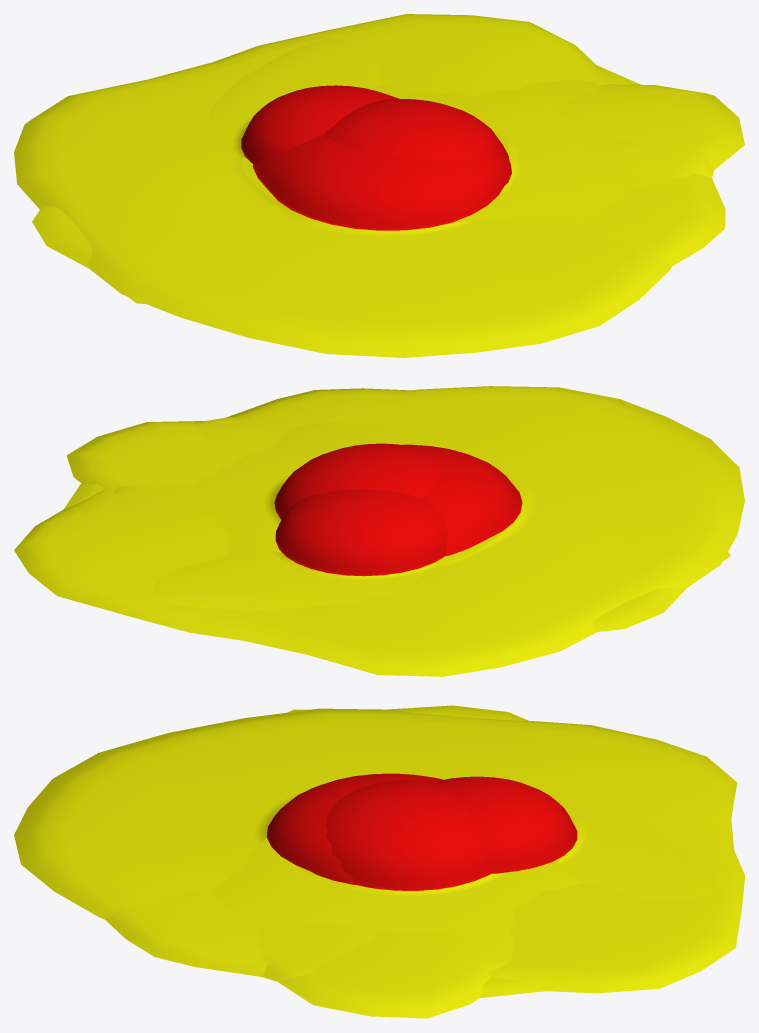
Rendered from fried_eggs_grp.fbx.
3 views of the same model, one above another, from view 1: azimuth 30°, elevation 25°; view 2: azimuth 150°, elevation 25°; view 3: azimuth 270°, elevation 25° (orthographic). The views are drawn at different scales.
Visible parts, largest first — view 1: fried_egg_15, fried_egg_18, fried_egg_19, fried_egg_10, fried_egg_20, fried_egg_25, fried_egg_17; view 2: fried_egg_15, fried_egg_19, fried_egg_18, fried_egg_10, fried_egg_20, fried_egg_25, fried_egg_17; view 3: fried_egg_15, fried_egg_18, fried_egg_19, fried_egg_10, fried_egg_20, fried_egg_25, fried_egg_17.
Boxes of the visible parts, <box> form: fried_egg_15: <box>14,14,712,357</box>; fried_egg_18: <box>241,80,628,223</box>; fried_egg_19: <box>206,38,398,164</box>; fried_egg_10: <box>552,84,744,170</box>; fried_egg_20: <box>501,159,725,266</box>; fried_egg_25: <box>505,136,713,190</box>; fried_egg_17: <box>32,65,640,267</box>; fried_egg_15: <box>14,386,744,676</box>; fried_egg_19: <box>153,489,447,610</box>; fried_egg_18: <box>114,422,503,563</box>; fried_egg_10: <box>66,421,236,488</box>; fried_egg_20: <box>227,388,413,424</box>; fried_egg_25: <box>195,417,308,460</box>; fried_egg_17: <box>63,483,686,631</box>; fried_egg_15: <box>14,708,744,993</box>; fried_egg_18: <box>212,780,582,970</box>; fried_egg_19: <box>437,776,714,901</box>; fried_egg_10: <box>277,929,489,1018</box>; fried_egg_20: <box>105,864,355,976</box>; fried_egg_25: <box>255,880,376,981</box>; fried_egg_17: <box>388,705,545,997</box>.
Bounding box in the file's own units: 17.78 × 1.72 × 17.54.
